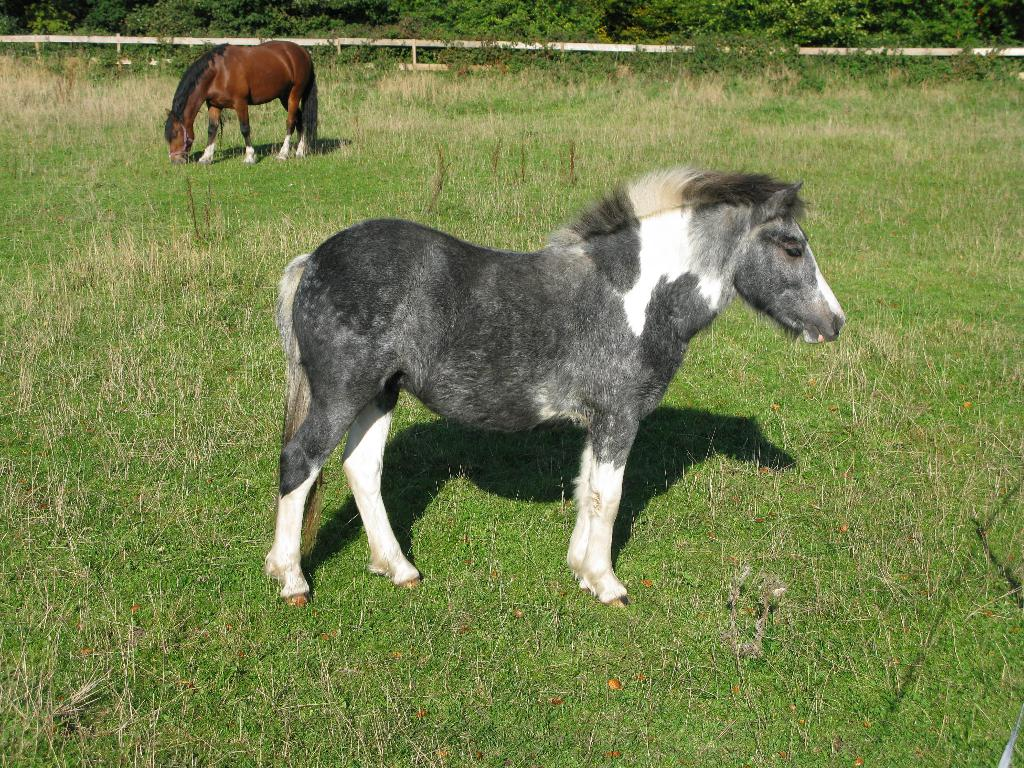horse: (260, 159, 853, 608), (161, 43, 318, 159)
